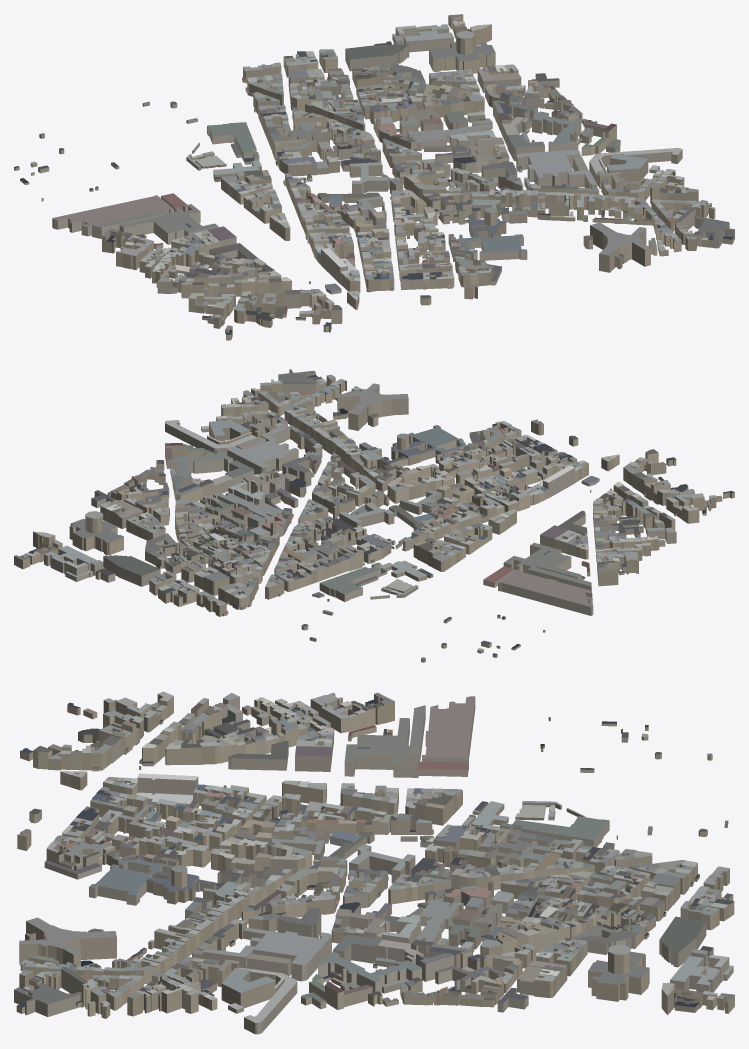
3 renders of one model, top to bottom at view 1: azimuth 30°, elevation 25°; view 2: azimuth 150°, elevation 25°; view 3: azimuth 270°, elevation 25°, orthographic. The views are drawn at different scales.
Parts seen in each view (by area): view 1: tuile; view 2: tuile; view 3: tuile.
Part boxes in pixels (bbox=[...]): tuile: bbox=[14, 14, 734, 340]; tuile: bbox=[14, 369, 734, 662]; tuile: bbox=[14, 691, 734, 1034].
Size of the model in its own units: 1101 by 78.51 by 1021.
